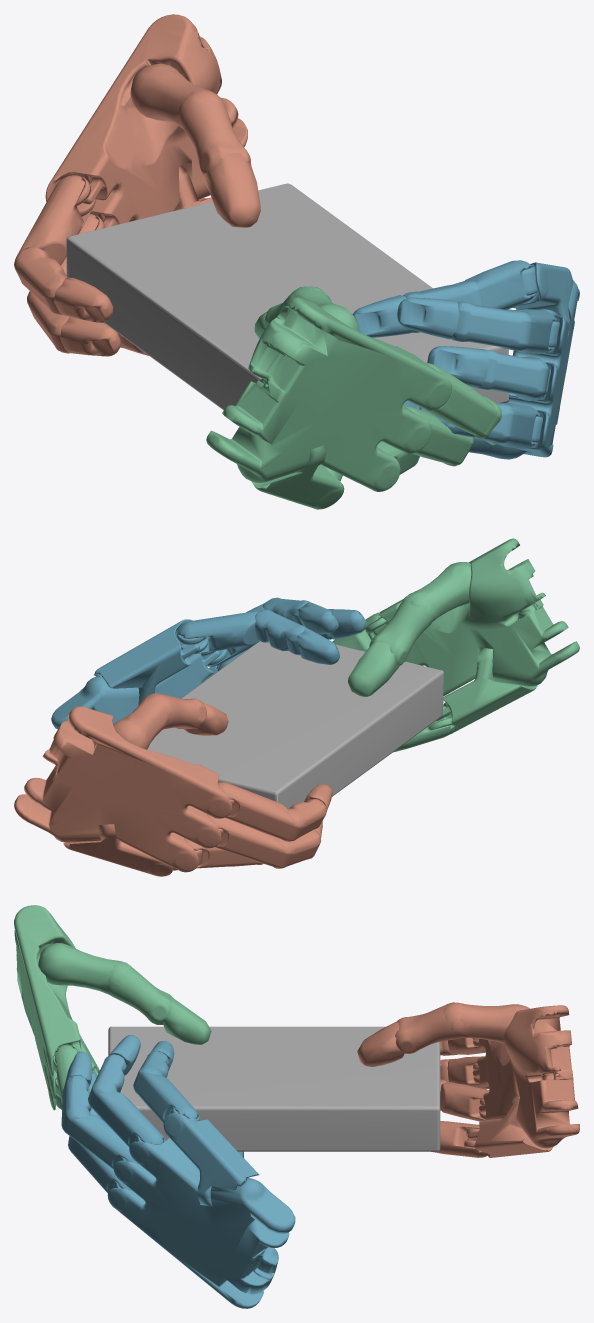
The picture shows the model from 3 angles, top to bottom: view 1: azimuth 30°, elevation 25°; view 2: azimuth 150°, elevation 25°; view 3: azimuth 270°, elevation 25°; orthographic projection. The views are drawn at different scales.
Bounding box in the file's own units: 0.277 × 0.1766 × 0.3435.
